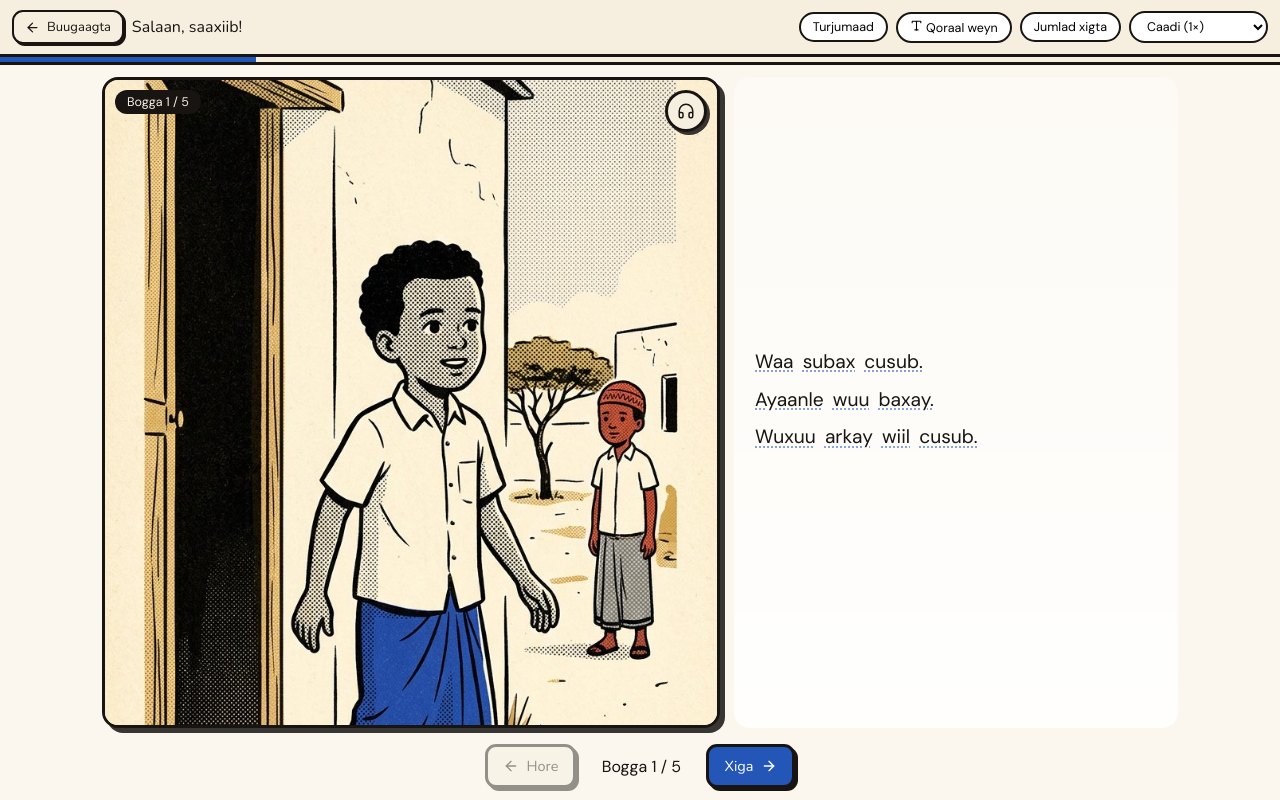
book reader › renders the story text and lets a child tap a word for its grapheme reference
Click the button with aria-label "Erayga Ayaanle": (789, 400) left=753, top=384, right=826, bottom=415
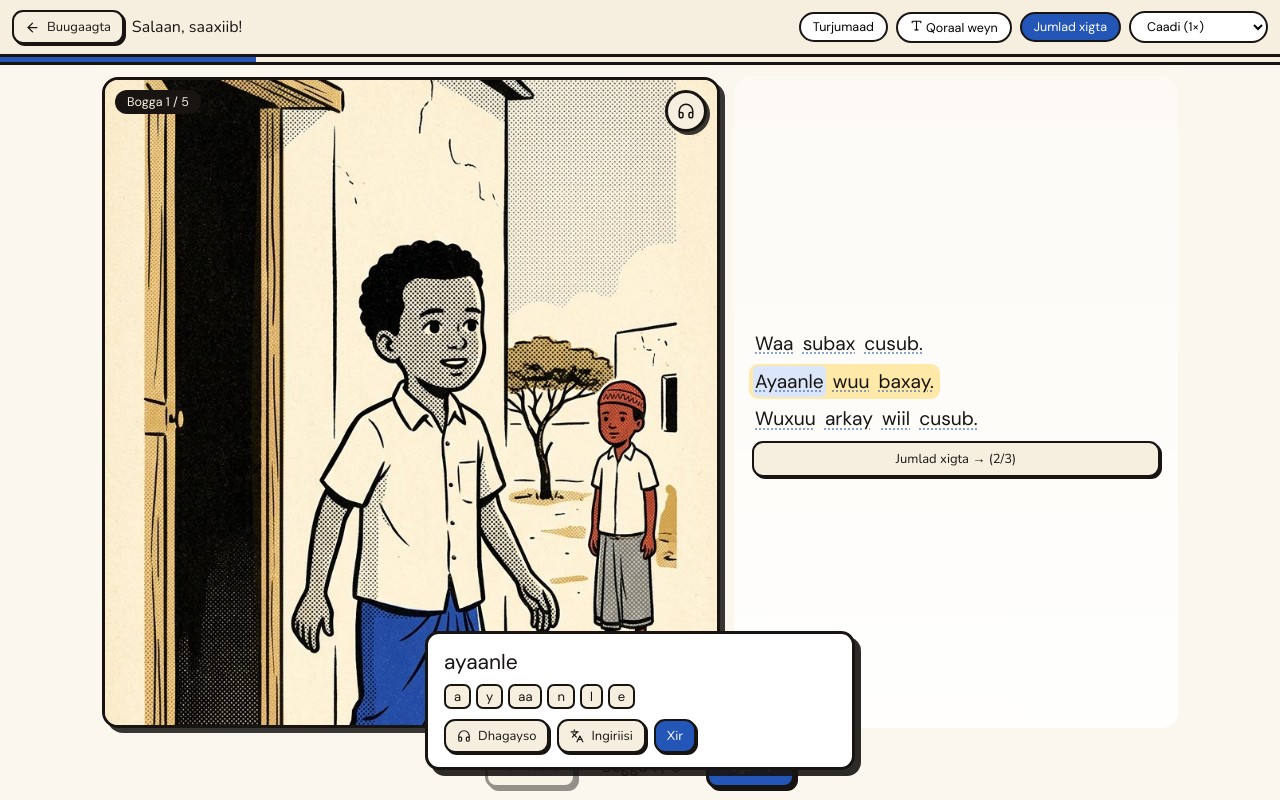
Result: the dialog named "Macluumaadka erayga" is shown at left=425, top=631, right=855, bottom=770
Click the button "Ingiriisi": (602, 736) left=557, top=719, right=646, bottom=753
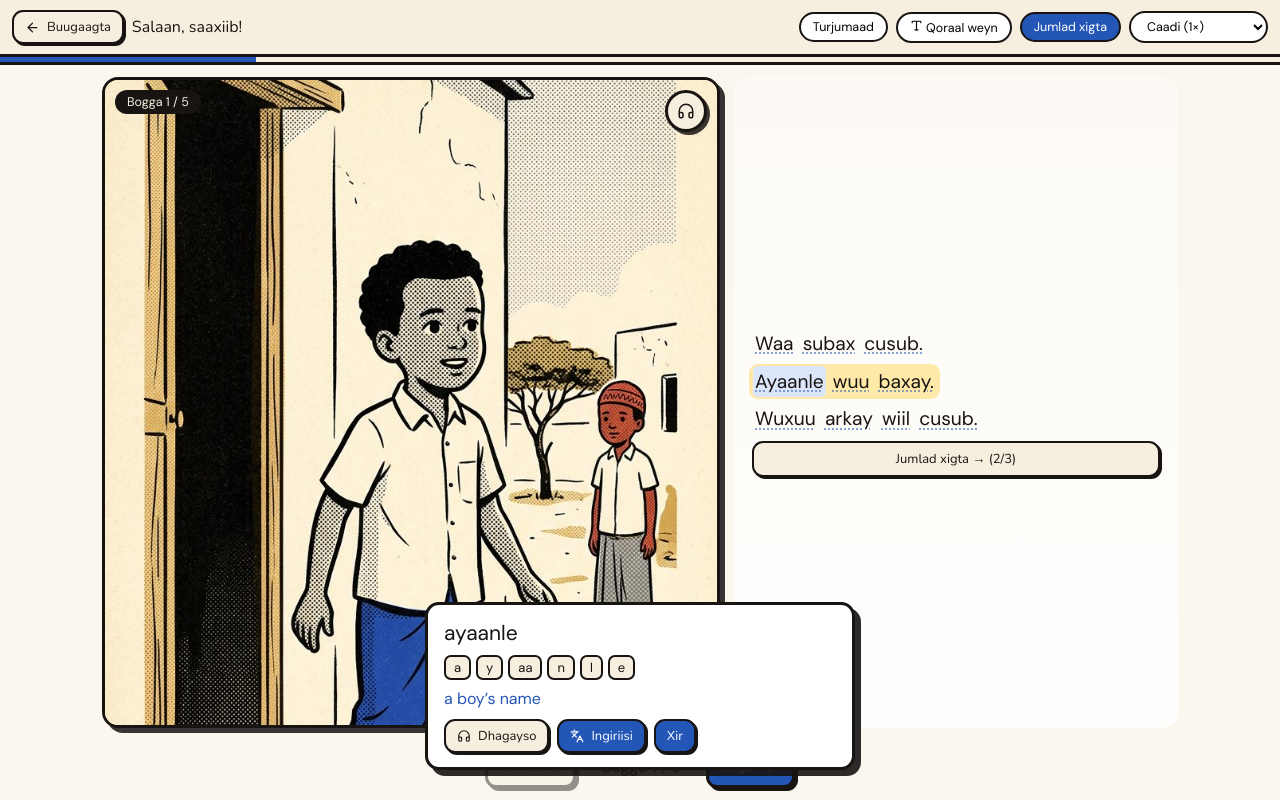
Result: the text "a boy’s name" is shown at left=444, top=688, right=541, bottom=709
